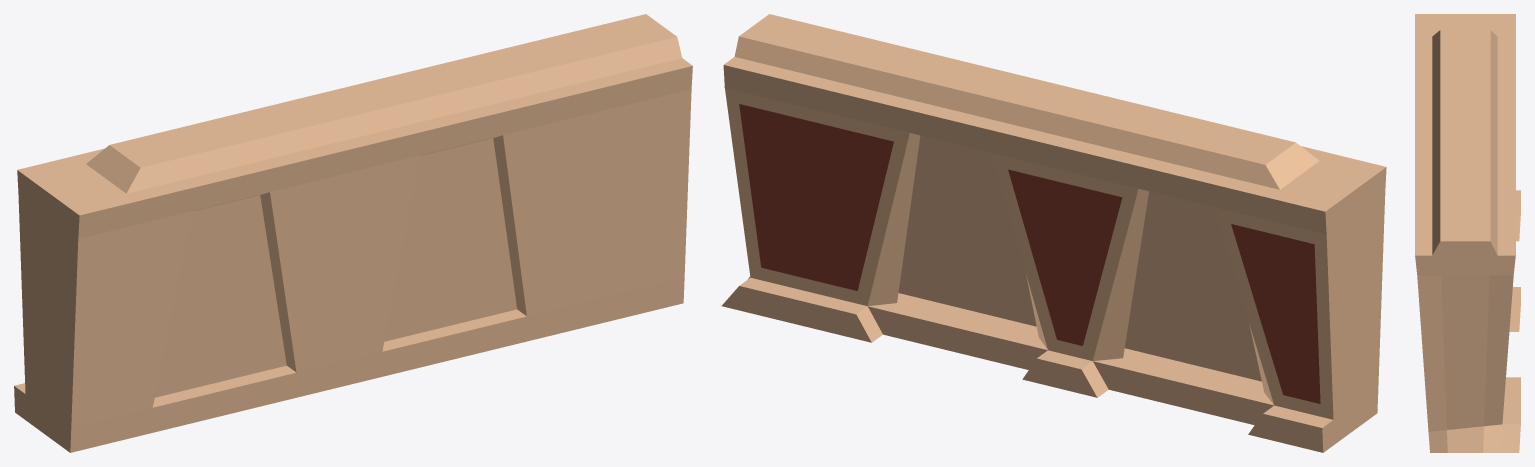
Rendered from BDoor_wall.fbx.
3 views of the same model, side by side, from view 1: azimuth 30°, elevation 25°; view 2: azimuth 150°, elevation 25°; view 3: azimuth 270°, elevation 25° (orthographic). The views are drawn at different scales.
Visible parts, largest first — view 1: Cube.005; view 2: Cube.005; view 3: Cube.005.
Boxes of the visible parts, <box> form: Cube.005: <box>14,14,692,452</box>; Cube.005: <box>721,14,1386,452</box>; Cube.005: <box>1415,14,1520,452</box>.
Size of the model in its own units: 3100 by 1265 by 574.
